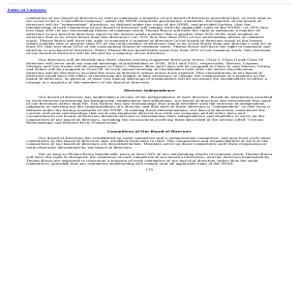text: (7, 6, 277, 166)
